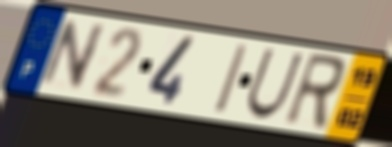2: (90, 25, 144, 102)
4: (143, 32, 199, 109)
I: (212, 41, 251, 117)
N: (36, 18, 110, 93)
R: (280, 50, 350, 134)
U: (243, 46, 307, 121)
